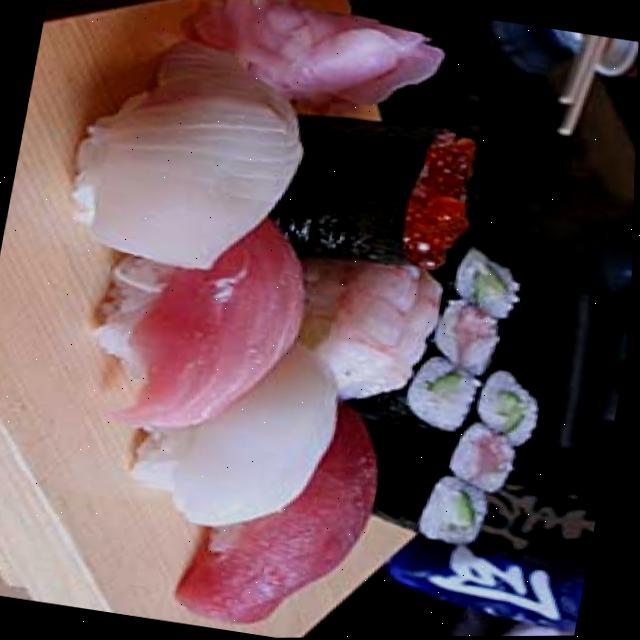寿司卷物: (0, 8, 608, 640)
